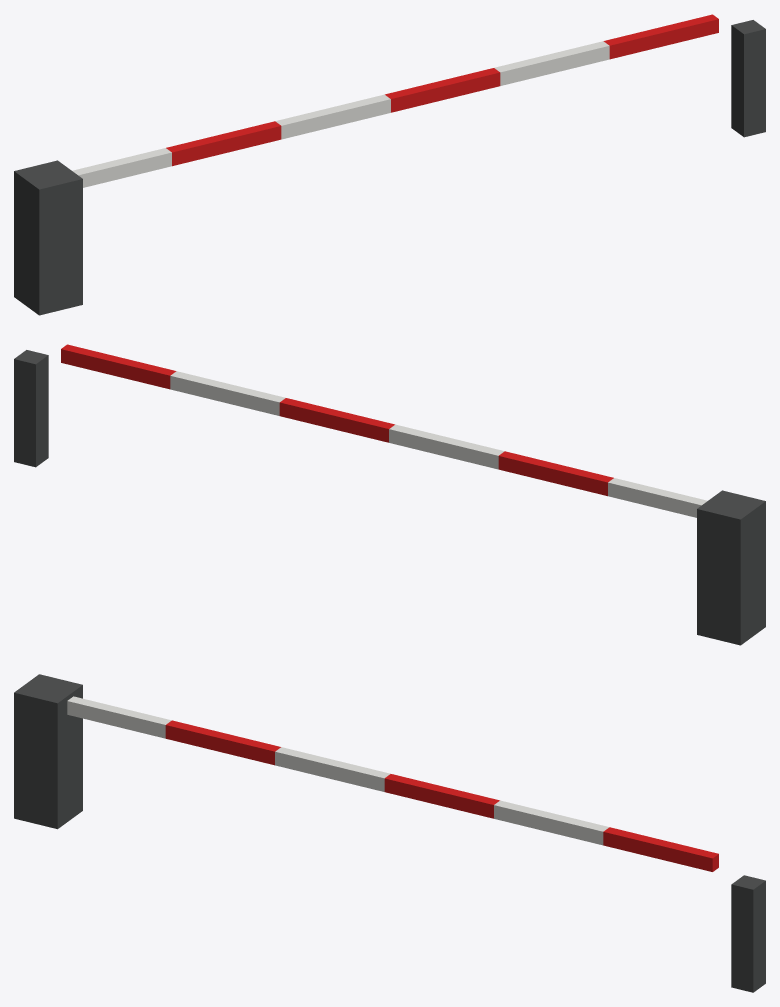
File: GateBarrier.fbx
3 renders of one model, top to bottom at view 1: azimuth 30°, elevation 25°; view 2: azimuth 150°, elevation 25°; view 3: azimuth 330°, elevation 25°, orthographic.
Visible parts, largest first — view 1: Post, Rest, Arm1, Arm4, Arm3, Arm5, Arm2, Arm0; view 2: Post, Rest, Arm1, Arm4, Arm3, Arm5, Arm2, Arm0; view 3: Post, Rest, Arm5, Arm2, Arm4, Arm1, Arm3, Arm0.
Boxes of the visible parts, box(x1,y1,x2,y2) form: Post: box(14, 160, 82, 315); Rest: box(731, 20, 765, 137); Arm1: box(166, 121, 281, 166); Arm4: box(494, 41, 609, 85); Arm3: box(385, 68, 500, 112); Arm5: box(603, 14, 718, 59); Arm2: box(275, 94, 390, 139); Arm0: box(72, 148, 171, 187); Post: box(697, 490, 765, 645); Rest: box(14, 350, 48, 467); Arm1: box(498, 451, 613, 496); Arm4: box(170, 371, 285, 415); Arm3: box(279, 398, 394, 442); Arm5: box(61, 344, 176, 389); Arm2: box(389, 424, 504, 469); Arm0: box(608, 478, 707, 517); Post: box(14, 674, 82, 829); Rest: box(731, 875, 765, 992); Arm5: box(603, 827, 718, 871); Arm2: box(275, 747, 390, 791); Arm4: box(494, 800, 609, 845); Arm1: box(165, 720, 280, 765); Arm3: box(384, 774, 499, 818); Arm0: box(67, 696, 171, 738).
Size of the model in its own units: 670 by 40 by 110.
